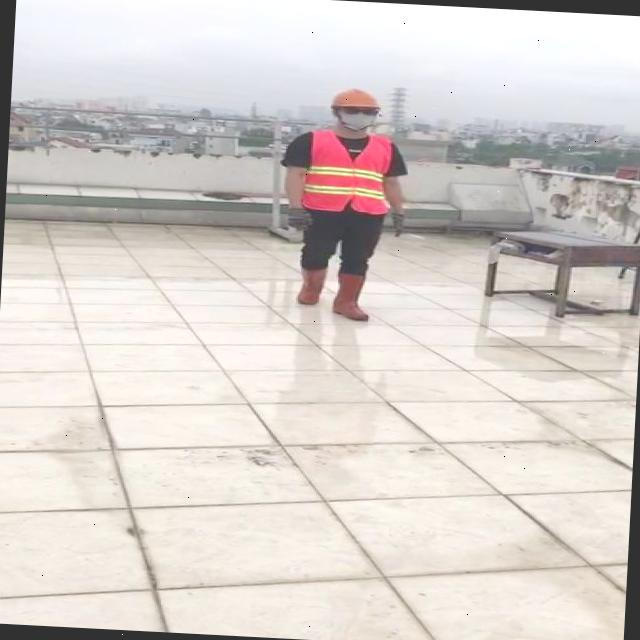boots: (332, 272, 370, 322), (292, 262, 328, 306)
helmet: (329, 84, 382, 110)
vest: (300, 126, 392, 216)
